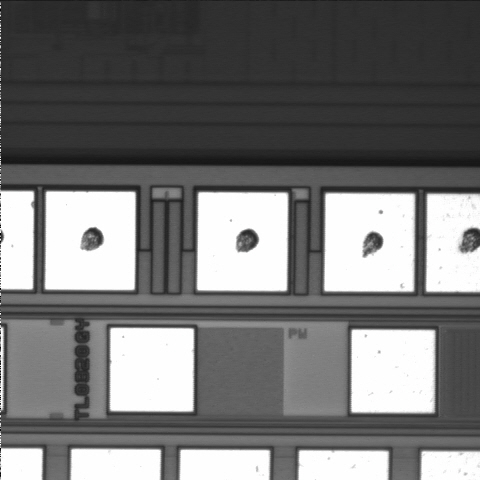pad: (197, 192, 288, 291), (324, 193, 415, 291), (45, 192, 135, 290), (110, 328, 194, 411), (351, 330, 435, 413)
